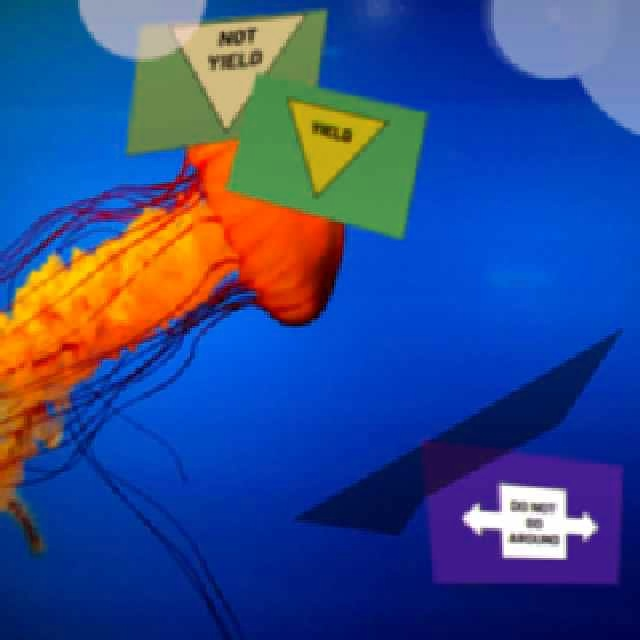DO_NOT_GO_AROUND: (452, 476, 600, 563)
NOT_YIELD: (153, 12, 306, 141)
YIELD: (264, 94, 391, 211)
